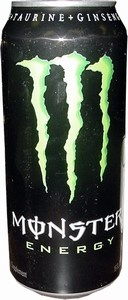grozi_42: (0, 0, 128, 299)
